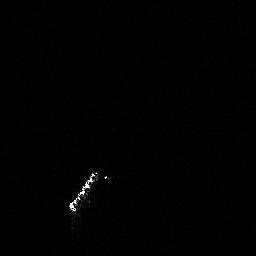ship: (67, 171, 112, 215)
